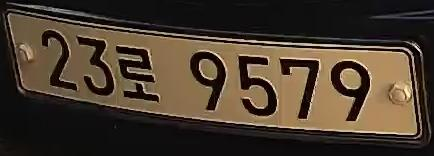2: (40, 25, 75, 89)
3: (77, 34, 116, 98)
5: (235, 51, 279, 117)
7: (280, 54, 324, 122)
9: (329, 57, 379, 127), (188, 47, 231, 114)
로: (117, 42, 166, 106)
